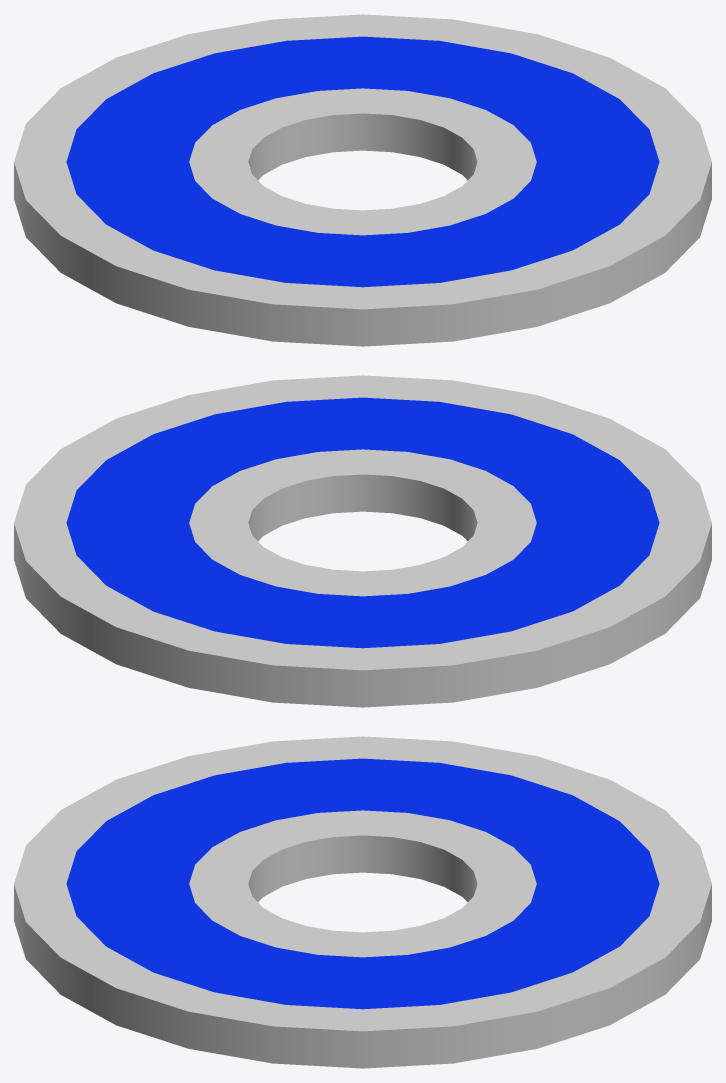
Rendered from map_bicycle_location.obj.
3 renders of one model, top to bottom at view 1: azimuth 30°, elevation 25°; view 2: azimuth 150°, elevation 25°; view 3: azimuth 270°, elevation 25°, orthographic.
Parts seen in each view (by area): view 1: map_bicycle_location; view 2: map_bicycle_location; view 3: map_bicycle_location.
Part boxes in pixels (<box>): map_bicycle_location: <box>14,14,711,346</box>; map_bicycle_location: <box>14,375,711,707</box>; map_bicycle_location: <box>14,736,711,1068</box>.
Bounding box in the file's own units: 4.88 × 0.2867 × 4.88.
